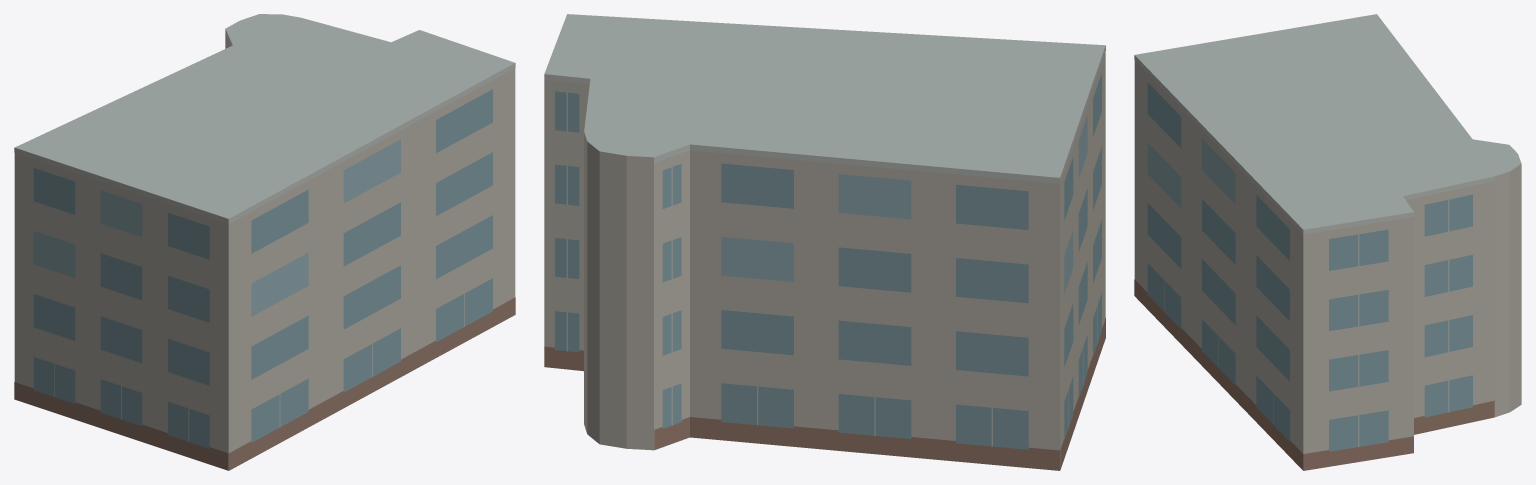
Rendered from survey-upis-32863960.glb.
The picture shows the model from 3 angles, left to right: view 1: azimuth 30°, elevation 25°; view 2: azimuth 150°, elevation 25°; view 3: azimuth 270°, elevation 25°; orthographic projection. The views are drawn at different scales.
Visible parts, largest first — view 1: survey-upis-32863960.tmp; view 2: survey-upis-32863960.tmp; view 3: survey-upis-32863960.tmp.
Boxes of the visible parts, box(x1,y1,x2,y2) form: survey-upis-32863960.tmp: box(14, 14, 515, 470); survey-upis-32863960.tmp: box(544, 14, 1105, 470); survey-upis-32863960.tmp: box(1134, 14, 1521, 470).
Size of the model in its own units: 23.44 by 12.2 by 17.76.
